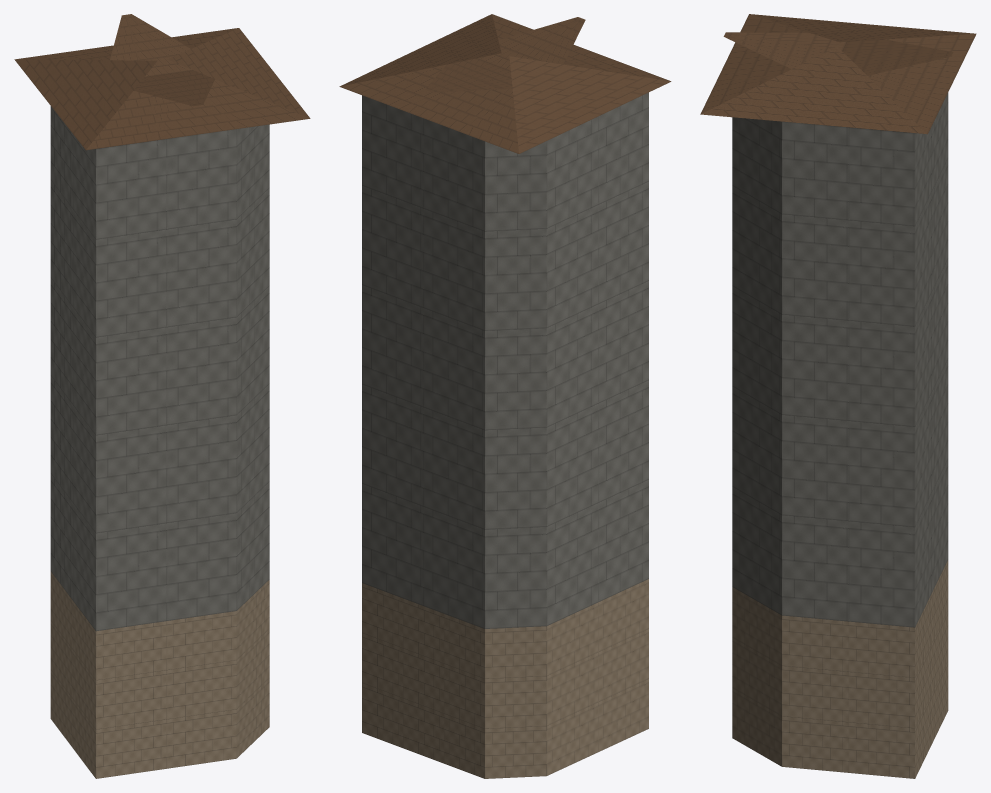
Rendered from bld_c8_37_517.gltf.
3 renders of one model, left to right at view 1: azimuth 30°, elevation 25°; view 2: azimuth 150°, elevation 25°; view 3: azimuth 270°, elevation 25°, orthographic. The views are drawn at different scales.
Visible parts, largest first — view 1: bld_c8_37_517; view 2: bld_c8_37_517; view 3: bld_c8_37_517.
Boxes of the visible parts, x1,y1,x2,y2 form: bld_c8_37_517: (14, 14, 310, 778); bld_c8_37_517: (339, 14, 671, 778); bld_c8_37_517: (700, 14, 976, 778).
Size of the model in its own units: 8.69 by 23 by 8.44.
3 materials, 3 textured.
